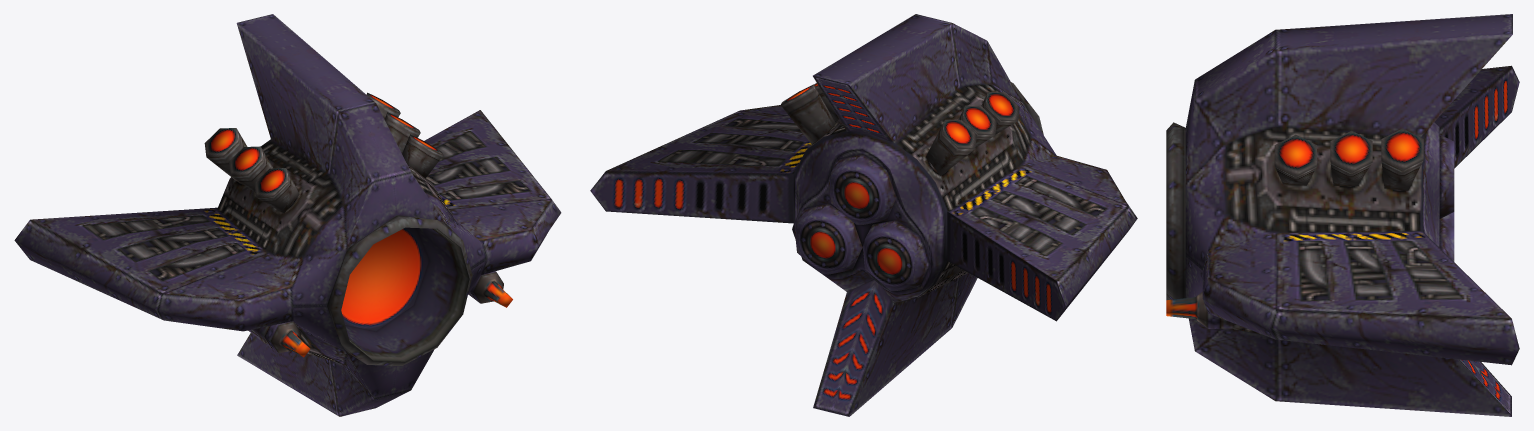
Rendered from SS_DefenderShip_A_01.FBX.
The picture shows the model from 3 angles, left to right: view 1: azimuth 30°, elevation 25°; view 2: azimuth 150°, elevation 25°; view 3: azimuth 270°, elevation 25°; orthographic projection. The views are drawn at different scales.
Parts seen in each view (by area): view 1: SS_DefenderShip_A_01; view 2: SS_DefenderShip_A_01; view 3: SS_DefenderShip_A_01.
Boxes of the visible parts, x1,y1,x2,y2 form: SS_DefenderShip_A_01: [14, 14, 561, 416]; SS_DefenderShip_A_01: [590, 14, 1137, 416]; SS_DefenderShip_A_01: [1166, 14, 1519, 416].
Size of the model in its own units: 1085 by 726 by 608.
Materials: 1 (1 with a texture image).
